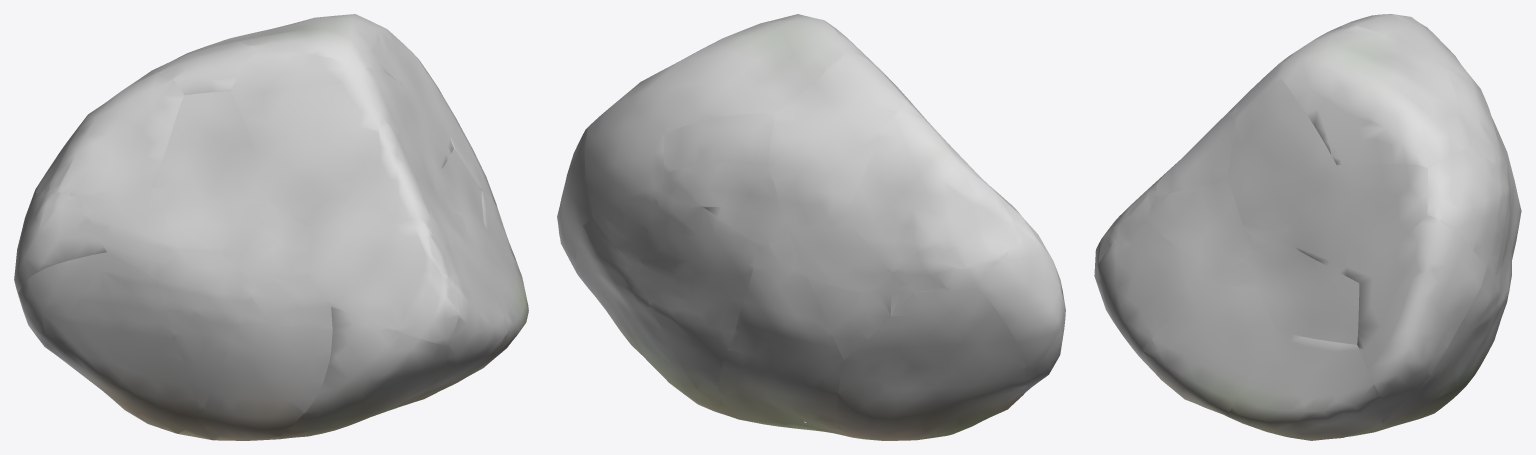
Rendered from rock_v5.glb.
3 renders of one model, left to right at view 1: azimuth 30°, elevation 25°; view 2: azimuth 150°, elevation 25°; view 3: azimuth 270°, elevation 25°, orthographic. The views are drawn at different scales.
Visible parts, largest first — view 1: Chunk_04, Chunk_28, Chunk_07, Chunk_15, Chunk_25, Chunk_02, Chunk_22, Chunk_12, Chunk_10, Chunk_29, Chunk_17, Chunk_09 (+10 smaller); view 2: Chunk_01, Chunk_22, Chunk_06, Chunk_11, Chunk_27, Chunk_29, Chunk_16, Chunk_14, Chunk_03, Chunk_09, Chunk_19, Chunk_24 (+2 smaller); view 3: Chunk_29, Chunk_08, Chunk_00, Chunk_05, Chunk_26, Chunk_21, Chunk_10, Chunk_13, Chunk_16, Chunk_18, Chunk_03, Chunk_23 (+7 smaller).
Boxes of the visible parts, bbox=[...] form: Chunk_04: bbox=[18, 252, 212, 440]; Chunk_28: bbox=[231, 51, 382, 230]; Chunk_07: bbox=[200, 274, 332, 440]; Chunk_15: bbox=[308, 212, 459, 346]; Chunk_25: bbox=[151, 91, 268, 251]; Chunk_02: bbox=[260, 306, 448, 440]; Chunk_22: bbox=[33, 71, 184, 197]; Chunk_12: bbox=[156, 250, 256, 411]; Chunk_10: bbox=[416, 233, 506, 401]; Chunk_29: bbox=[230, 14, 402, 85]; Chunk_17: bbox=[78, 184, 178, 278]; Chunk_09: bbox=[14, 191, 106, 307]; Chunk_01: bbox=[837, 285, 1028, 440]; Chunk_22: bbox=[847, 102, 1025, 291]; Chunk_06: bbox=[718, 235, 844, 435]; Chunk_11: bbox=[639, 187, 760, 408]; Chunk_27: bbox=[768, 51, 912, 228]; Chunk_29: bbox=[626, 14, 849, 133]; Chunk_16: bbox=[584, 94, 664, 270]; Chunk_14: bbox=[789, 217, 914, 360]; Chunk_03: bbox=[576, 219, 730, 416]; Chunk_09: bbox=[975, 220, 1064, 373]; Chunk_19: bbox=[662, 162, 791, 248]; Chunk_24: bbox=[664, 113, 776, 172]; Chunk_29: bbox=[1277, 26, 1472, 167]; Chunk_08: bbox=[1357, 216, 1486, 415]; Chunk_00: bbox=[1228, 331, 1383, 440]; Chunk_05: bbox=[1145, 261, 1276, 416]; Chunk_26: bbox=[1227, 74, 1336, 250]; Chunk_21: bbox=[1281, 163, 1427, 283]; Chunk_10: bbox=[1097, 220, 1219, 374]; Chunk_13: bbox=[1245, 241, 1359, 344]; Chunk_16: bbox=[1427, 146, 1505, 276]; Chunk_18: bbox=[1143, 179, 1251, 271]; Chunk_03: bbox=[1370, 269, 1503, 432]; Chunk_23: bbox=[1156, 112, 1238, 197].
Bounding box in the file's own units: 3.12 × 2.15 × 2.39.
